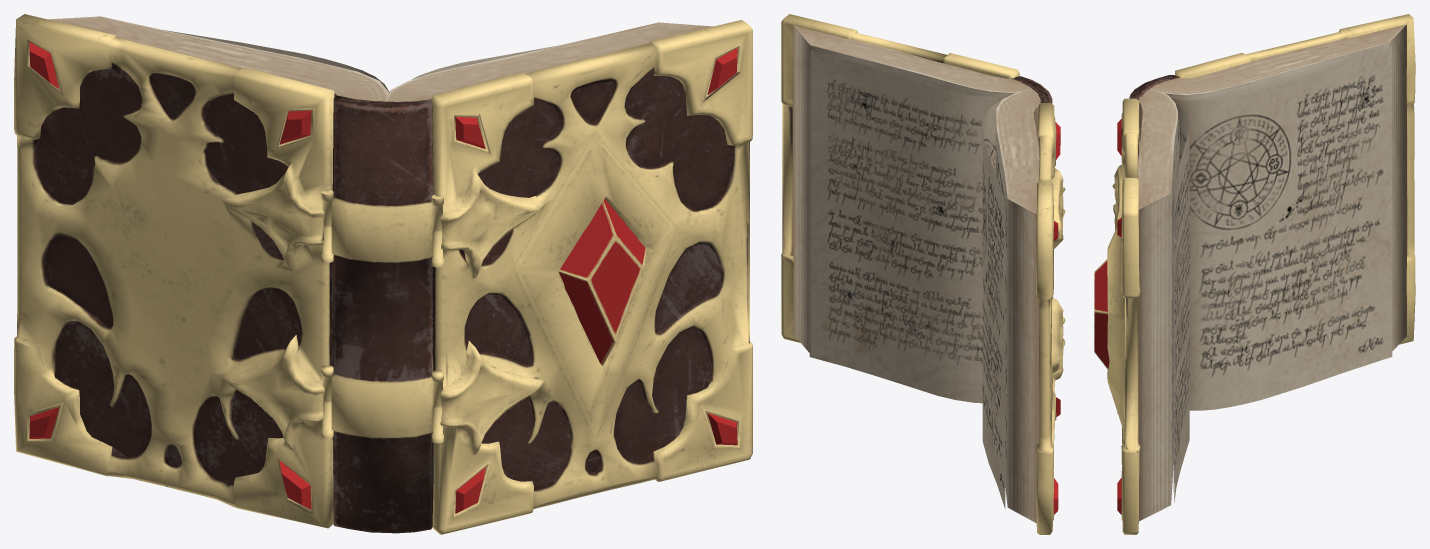
The model's file is kalestras_book.glb.
3 renders of one model, left to right at view 1: azimuth 30°, elevation 25°; view 2: azimuth 150°, elevation 25°; view 3: azimuth 270°, elevation 25°, orthographic. The views are drawn at different scales.
Parts seen in each view (by area): view 1: Object_2, Object_3; view 2: Object_2, Object_3; view 3: Object_2, Object_3.
Part boxes in pixels (x1=…): Object_2: x1=14, y1=14, x2=736, y2=528; Object_3: x1=29, y1=16, x2=752, y2=534; Object_2: x1=809, y1=50, x2=1065, y2=534; Object_3: x1=781, y1=14, x2=1060, y2=522; Object_2: x1=1094, y1=14, x2=1415, y2=502; Object_3: x1=1107, y1=24, x2=1406, y2=534.
Size of the model in its own units: 1.9 by 1.44 by 1.29.
Materials: 1 (1 with a texture image).
